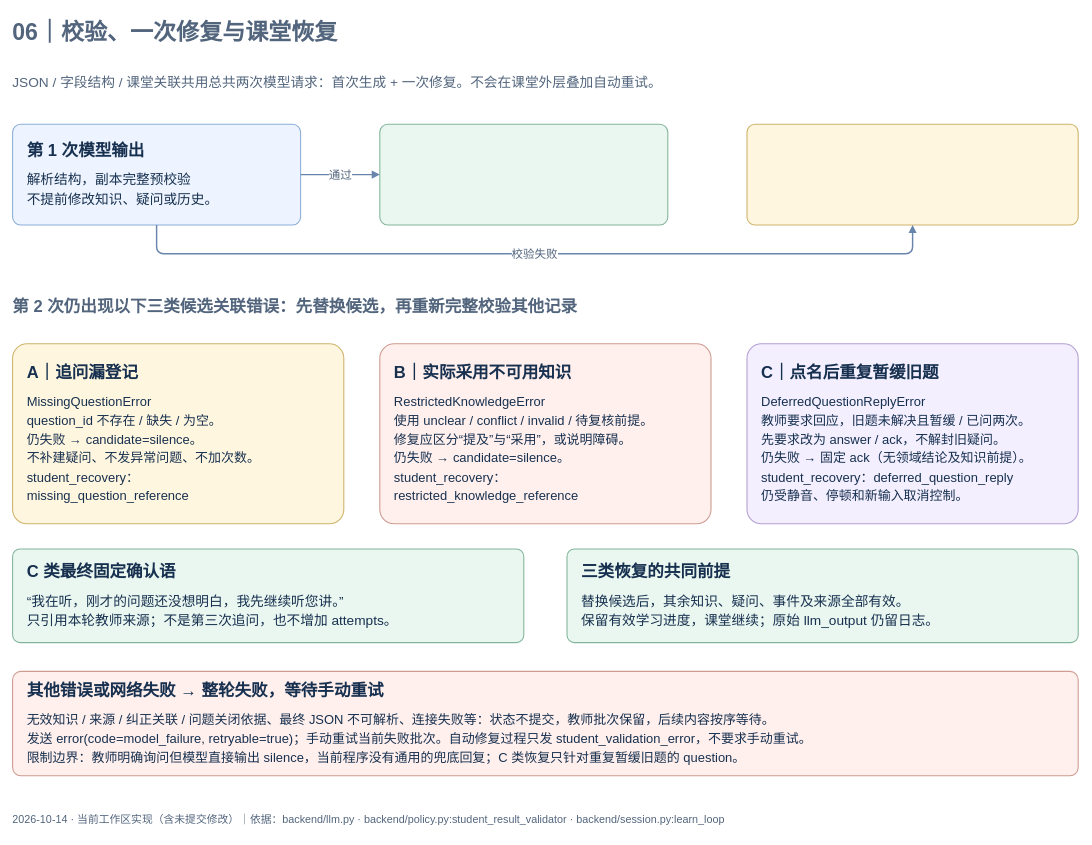
This 1092x845 diagram has some shape labels left out. The centre of each missing label's shape, as x and y in pixels:
失败 → 第 2 次修复 带具体错误及刚才的原始输出 再次返回完整 JSON 并完整校验。: pixel 912 174
通过 → 正常提交 原子更新一次，发送 state 候选进入发言时机检查。: pixel 523 174
